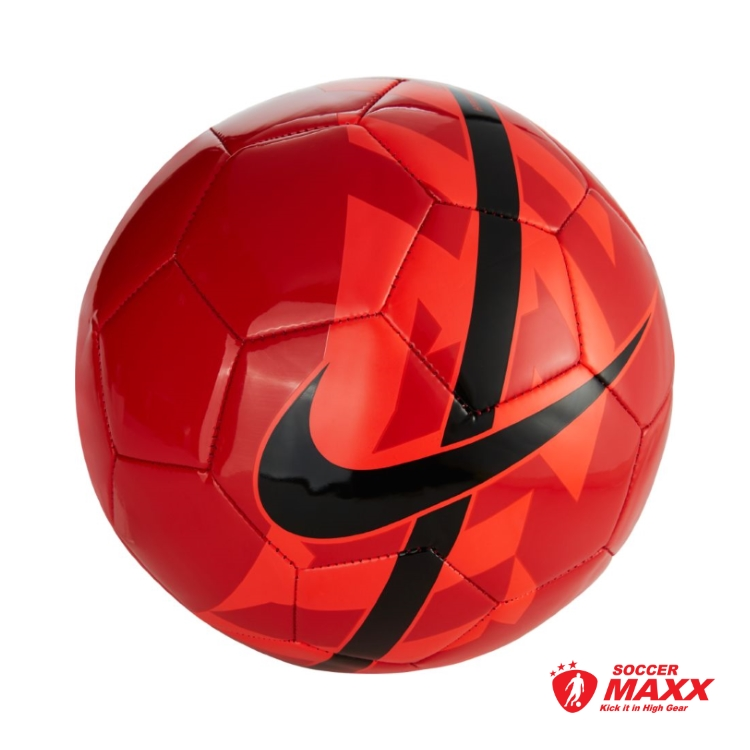red ball: (69, 75, 677, 679)
